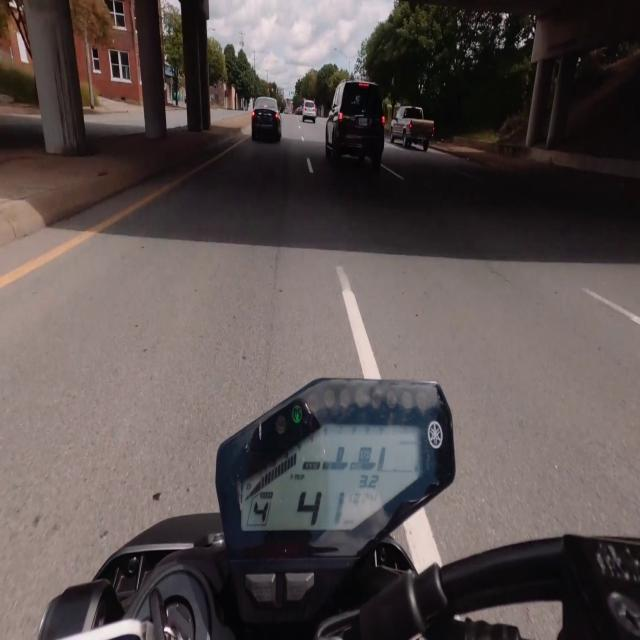car: (326, 80, 384, 170), (386, 100, 437, 150), (252, 97, 281, 141), (302, 101, 316, 123)
motorcycle: (39, 380, 639, 639)
